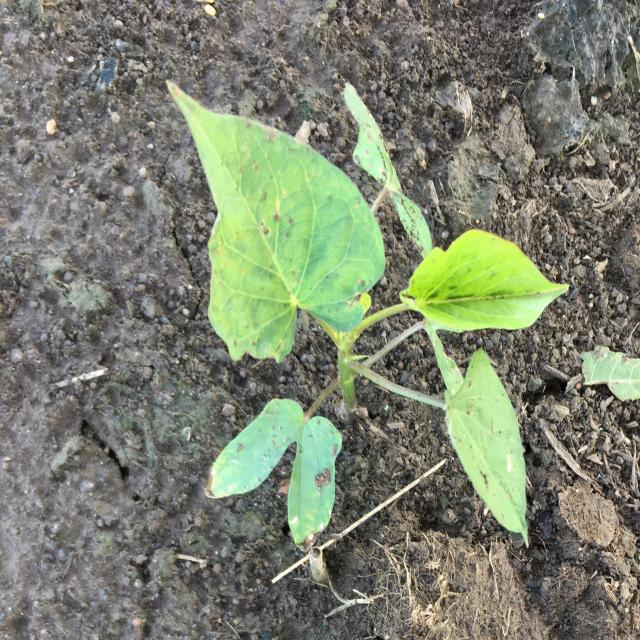MorningGlory: (166, 81, 570, 548)
